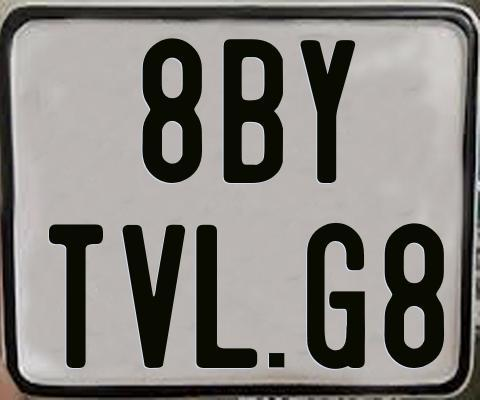8: (384, 220, 450, 366), (142, 37, 207, 182)
B: (222, 37, 287, 187)
G: (305, 221, 368, 372)
L: (193, 224, 258, 369)
T: (49, 223, 106, 373)
V: (120, 222, 187, 367)
Y: (299, 39, 358, 185)
